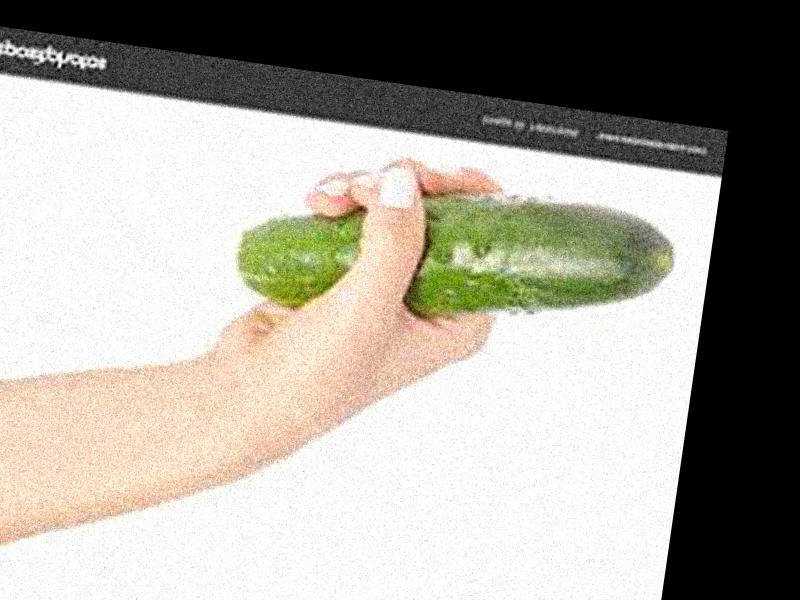Cucumber: (233, 156, 681, 360)
